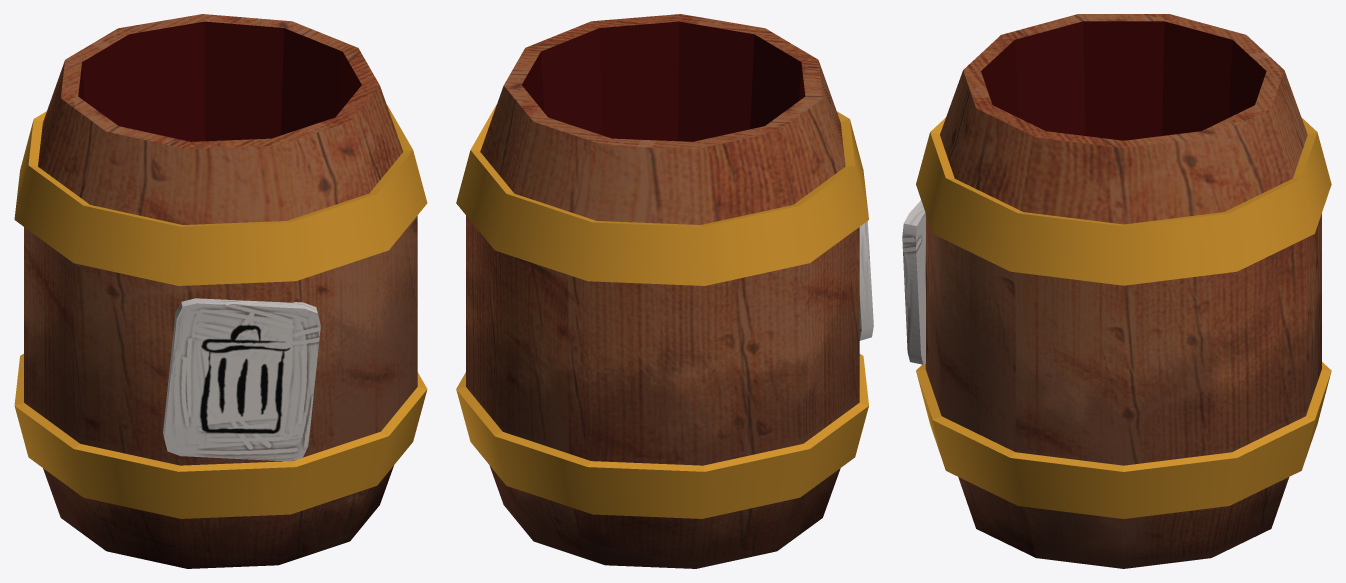
Rendered from bin.FBX.
3 renders of one model, left to right at view 1: azimuth 30°, elevation 25°; view 2: azimuth 150°, elevation 25°; view 3: azimuth 270°, elevation 25°, orthographic.
Parts seen in each view (by area): view 1: Box053; view 2: Box053; view 3: Box053.
Part boxes in pixels (left/top/right/bottom): Box053: left=14, top=14, right=427, bottom=568; Box053: left=456, top=14, right=873, bottom=568; Box053: left=902, top=14, right=1331, bottom=568.
Bounding box in the file's own units: 41.97 × 47.32 × 43.78.
